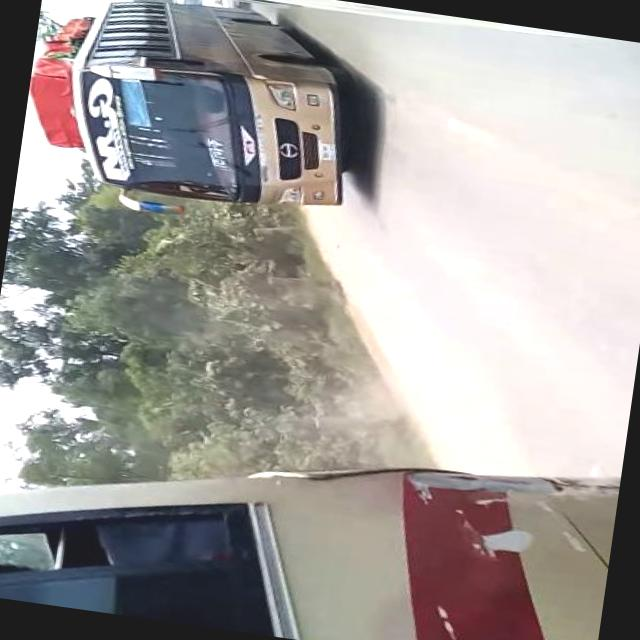bus: (0, 392, 613, 640), (25, 0, 368, 240)
